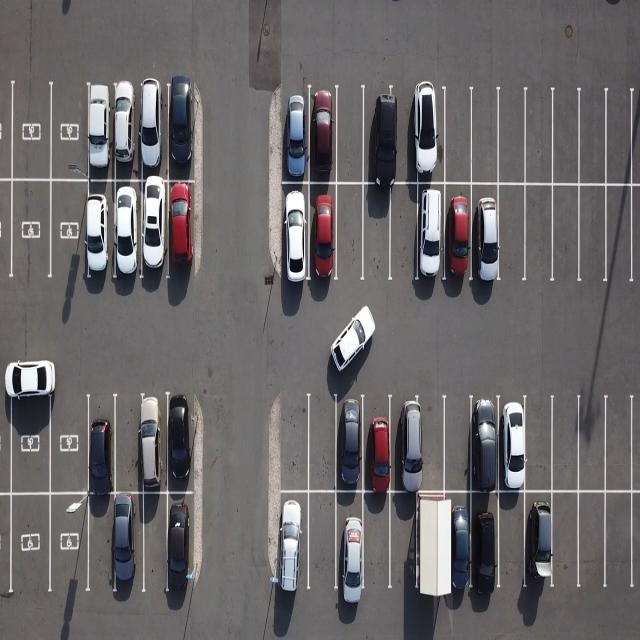space-empty: (9, 378, 50, 496), (49, 387, 92, 494), (48, 495, 92, 596), (8, 179, 49, 285), (7, 492, 49, 594), (49, 178, 89, 284), (112, 394, 154, 494), (9, 78, 49, 181), (410, 492, 448, 598), (492, 491, 530, 596), (307, 491, 343, 599), (546, 490, 583, 593), (358, 492, 393, 598), (51, 82, 88, 181), (572, 491, 608, 592), (604, 491, 638, 593), (495, 183, 528, 284), (386, 493, 419, 594), (308, 396, 342, 494), (276, 395, 310, 493), (525, 183, 558, 283), (574, 397, 608, 494), (389, 183, 422, 282), (604, 394, 637, 493), (548, 394, 582, 490), (574, 182, 606, 284), (84, 494, 116, 595), (607, 184, 638, 288), (550, 182, 582, 282), (523, 398, 557, 492), (336, 84, 368, 183), (440, 397, 473, 493), (359, 185, 391, 282), (574, 88, 606, 185), (526, 89, 558, 184), (336, 185, 366, 286), (494, 91, 526, 185), (416, 397, 448, 491), (140, 491, 169, 594), (606, 88, 637, 184), (551, 89, 582, 184), (470, 90, 501, 184), (441, 91, 471, 186), (393, 87, 421, 183)
space-occupied: (429, 492, 473, 603), (465, 490, 504, 598), (274, 488, 312, 598), (360, 84, 398, 184), (334, 485, 368, 594), (166, 396, 203, 496), (167, 492, 202, 596), (166, 180, 202, 281), (80, 178, 114, 284), (524, 487, 559, 589), (392, 395, 428, 494), (360, 398, 396, 496), (332, 397, 368, 494), (112, 494, 146, 595), (84, 397, 118, 498), (493, 396, 529, 491), (468, 399, 504, 494), (440, 182, 472, 286), (113, 177, 145, 280), (470, 182, 502, 285), (413, 90, 447, 186), (414, 182, 446, 284), (309, 182, 341, 284), (135, 395, 168, 493), (309, 86, 341, 186), (139, 179, 169, 283), (282, 183, 311, 288), (169, 81, 199, 179), (138, 82, 167, 180), (84, 80, 112, 177), (115, 83, 142, 181), (284, 87, 311, 185)
